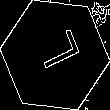L_SW: (28, 31, 82, 79)
